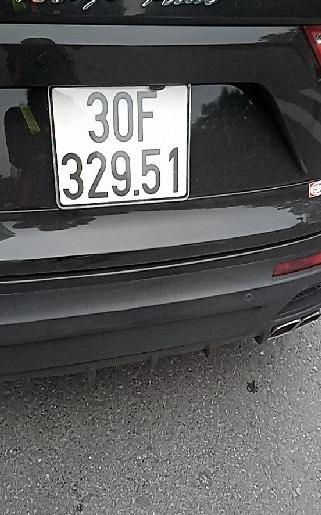Plate-iWeP: (48, 79, 191, 208)
